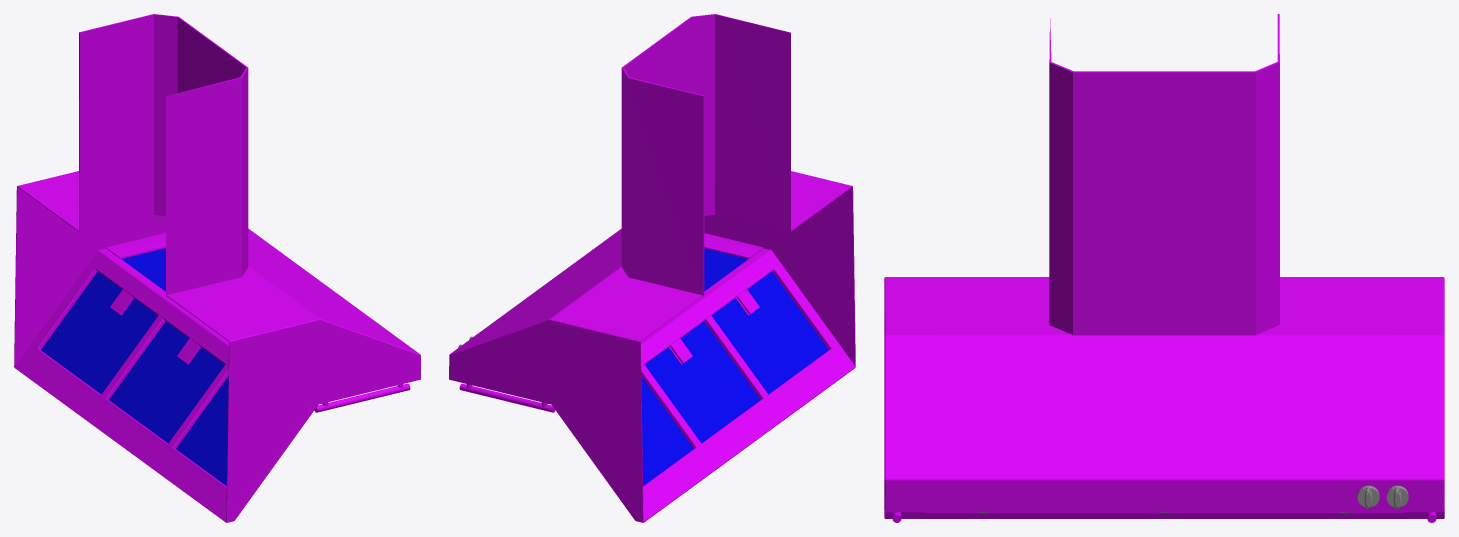
File: Aspirator_Small.FBX
3 views of the same model, side by side, from view 1: azimuth 30°, elevation 25°; view 2: azimuth 150°, elevation 25°; view 3: azimuth 270°, elevation 25° (orthographic). The views are drawn at different scales.
Parts seen in each view (by area): view 1: Aspirator_Small; view 2: Aspirator_Small; view 3: Aspirator_Small.
Boxes of the visible parts, x1,y1,x2,y2 form: Aspirator_Small: [14, 14, 420, 522]; Aspirator_Small: [449, 14, 855, 522]; Aspirator_Small: [884, 14, 1444, 522].
Size of the model in its own units: 673 by 1210 by 1224.
